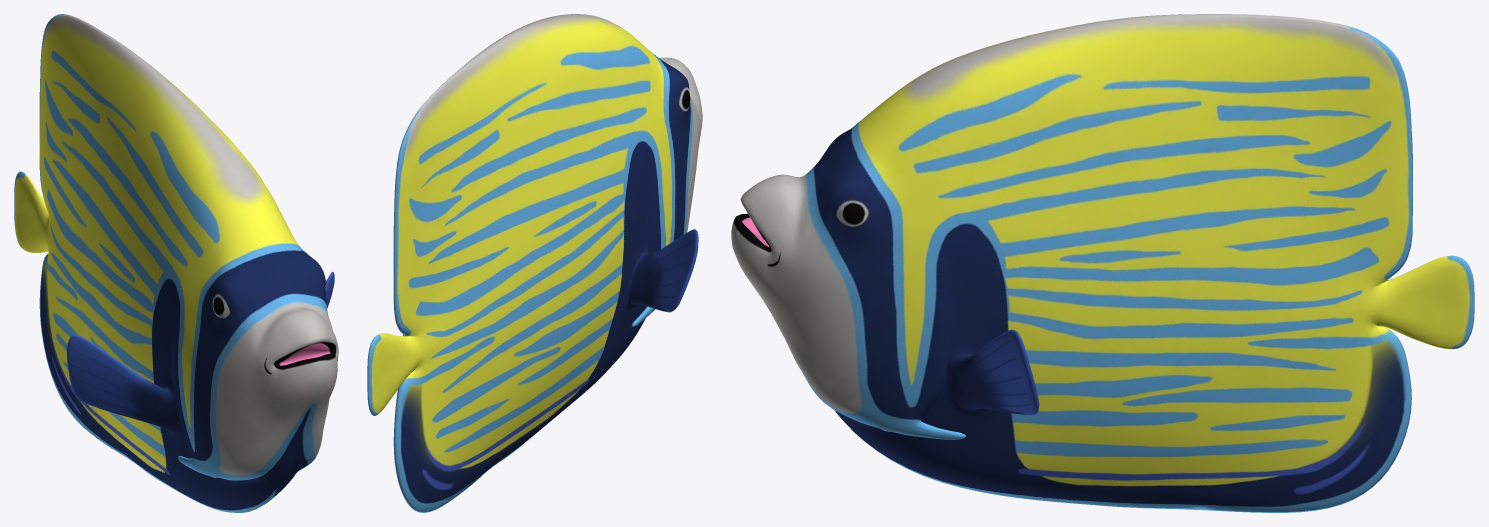
File: emperor-angelfish.glb
3 views of the same model, side by side, from view 1: azimuth 30°, elevation 25°; view 2: azimuth 150°, elevation 25°; view 3: azimuth 270°, elevation 25° (orthographic). The views are drawn at different scales.
Parts seen in each view (by area): view 1: angel_fish_3.1; view 2: angel_fish_3.1; view 3: angel_fish_3.1.
Boxes of the visible parts, x1,y1,x2,y2 form: angel_fish_3.1: (14, 14, 338, 512); angel_fish_3.1: (367, 14, 702, 512); angel_fish_3.1: (731, 14, 1474, 512).
Size of the model in its own units: 0.022 by 0.0326 by 0.0439.
Materials: 1 (1 with a texture image).
